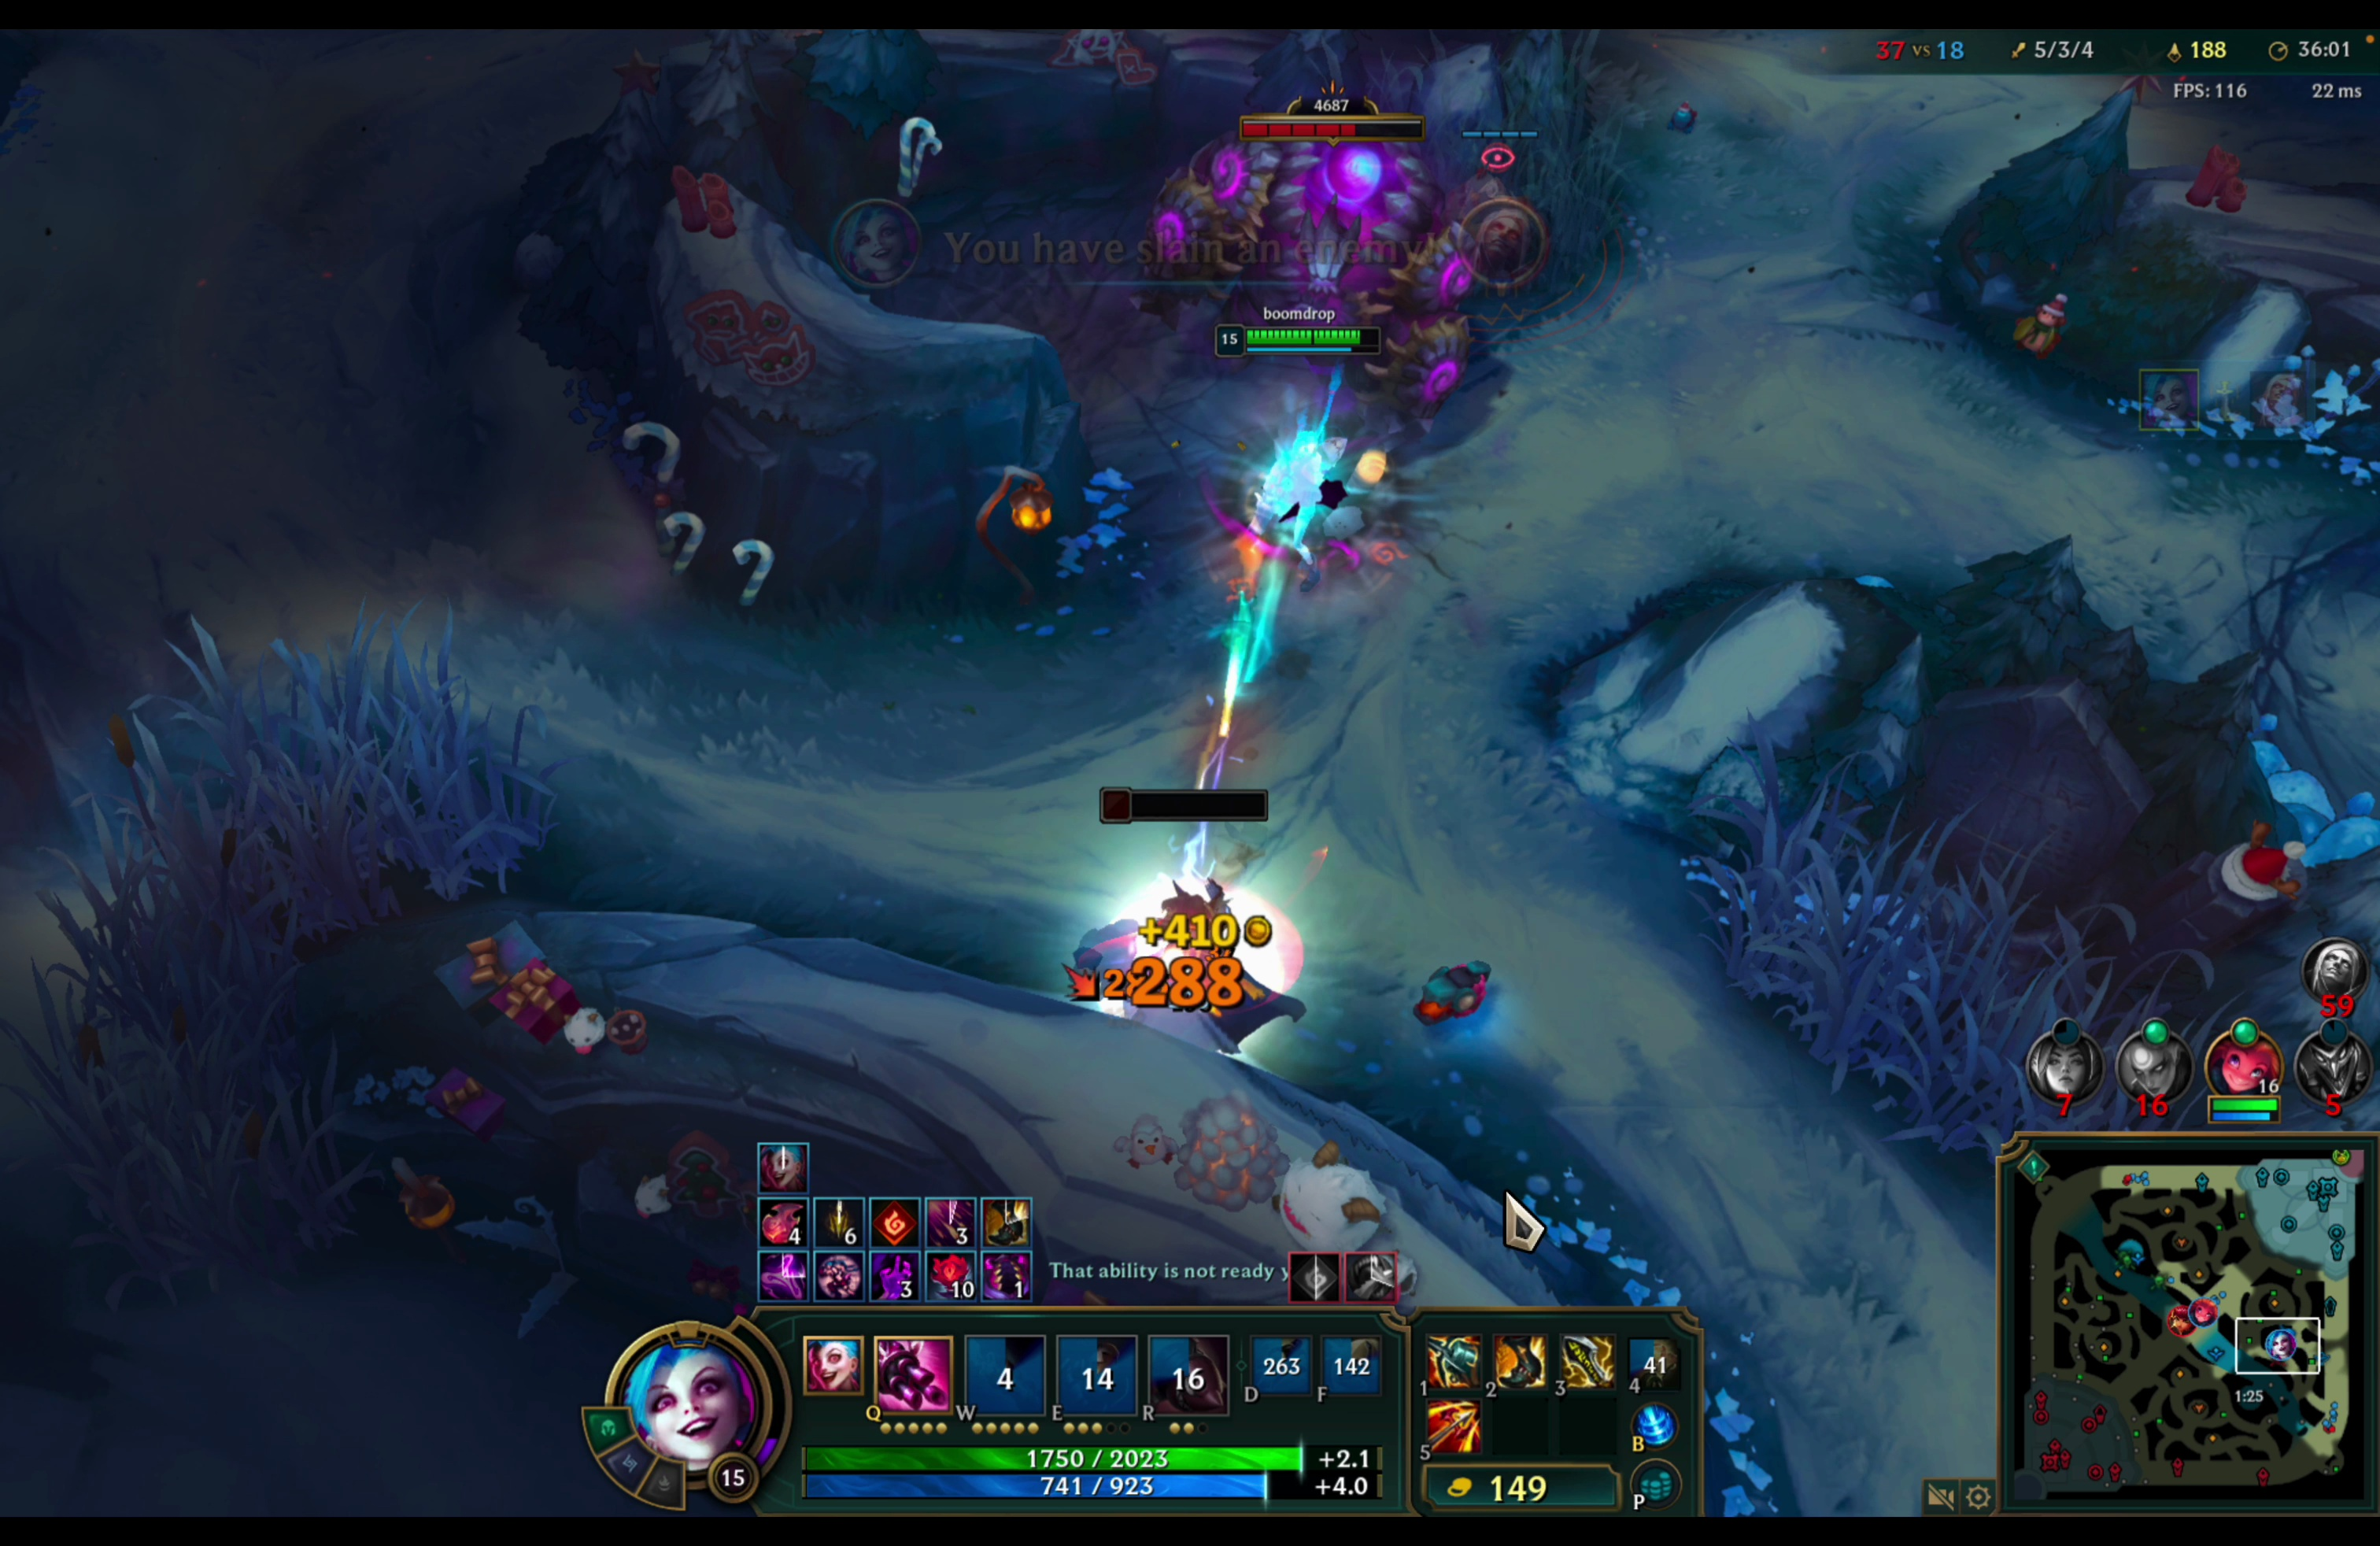JINX_W_IMPACT: (1023, 769, 1377, 1079)
